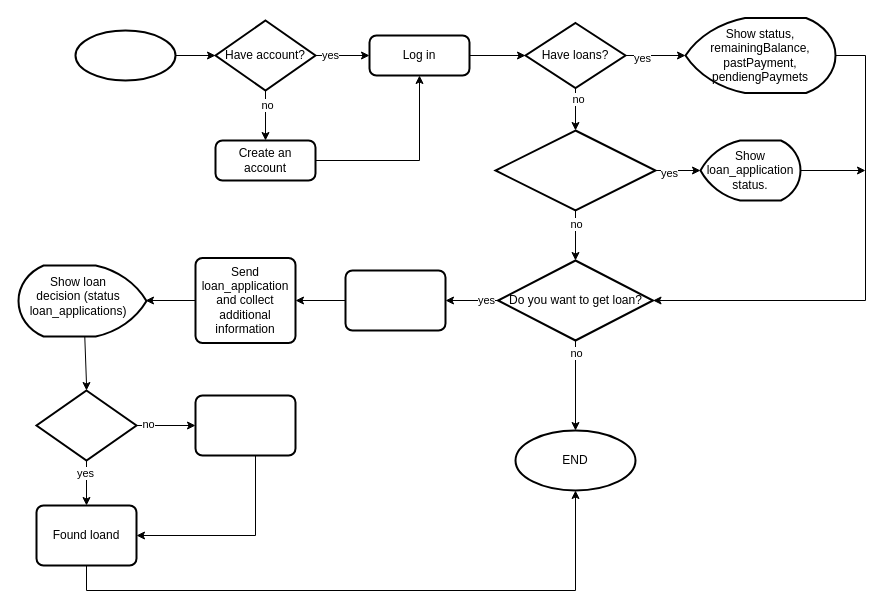
Some shapes in this 891 by 616 pixel diagram are drawn without their labels. The centre of each missing label's shape, as x and y in pixels:
Accept terms and conditions: [245,425]
Fill in the information required: [395,300]
Have loan_applications?: [575,170]
Have terms?: [86,425]
START: [125,55]
